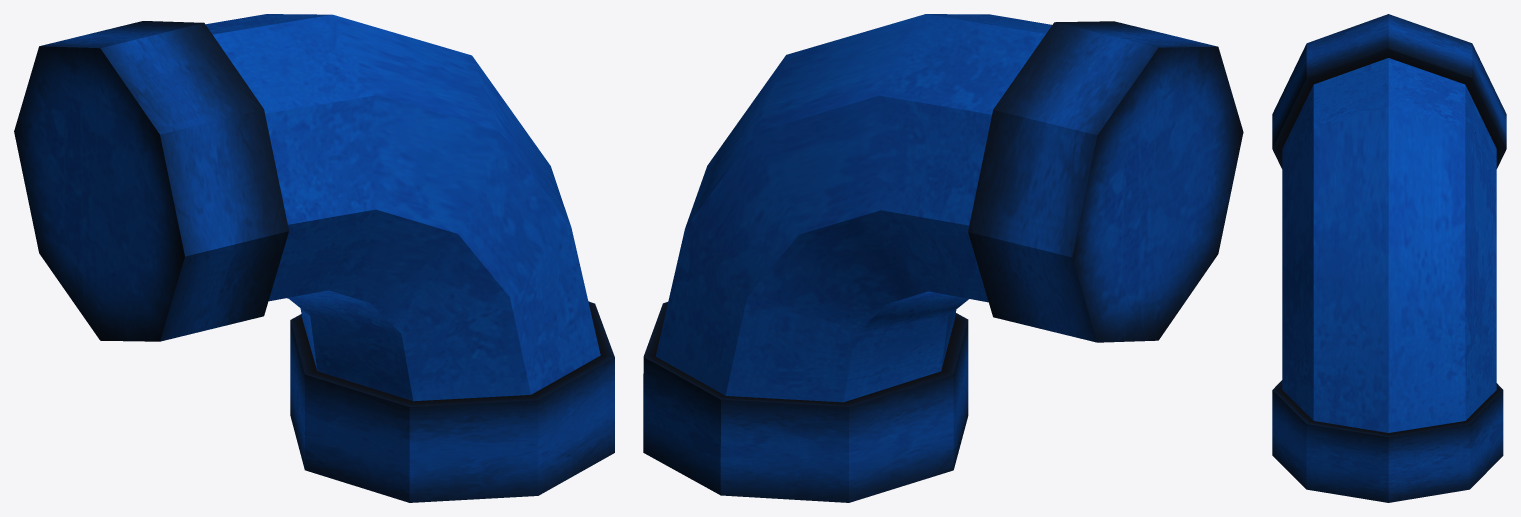
Rendered from Pipe Curve.fbx.
3 views of the same model, side by side, from view 1: azimuth 30°, elevation 25°; view 2: azimuth 150°, elevation 25°; view 3: azimuth 270°, elevation 25° (orthographic). The views are drawn at different scales.
Parts seen in each view (by area): view 1: Pipe_Connector2; view 2: Pipe_Connector2; view 3: Pipe_Connector2.
Part boxes in pixels (left/top/right/bottom): Pipe_Connector2: left=14, top=14, right=614, bottom=502; Pipe_Connector2: left=643, top=14, right=1243, bottom=502; Pipe_Connector2: left=1272, top=14, right=1506, bottom=502.
Bounding box in the file's own units: 1.1 × 1 × 0.6572.
